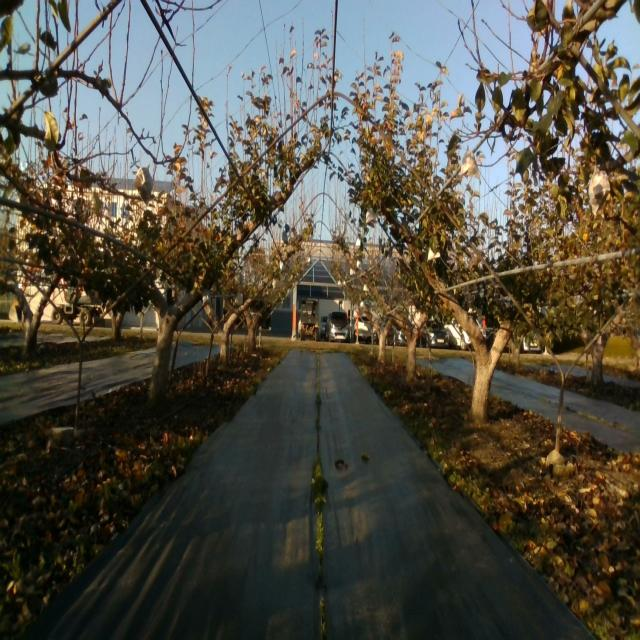pearbags: (588, 163, 611, 216), (133, 161, 153, 205), (459, 148, 480, 178)
